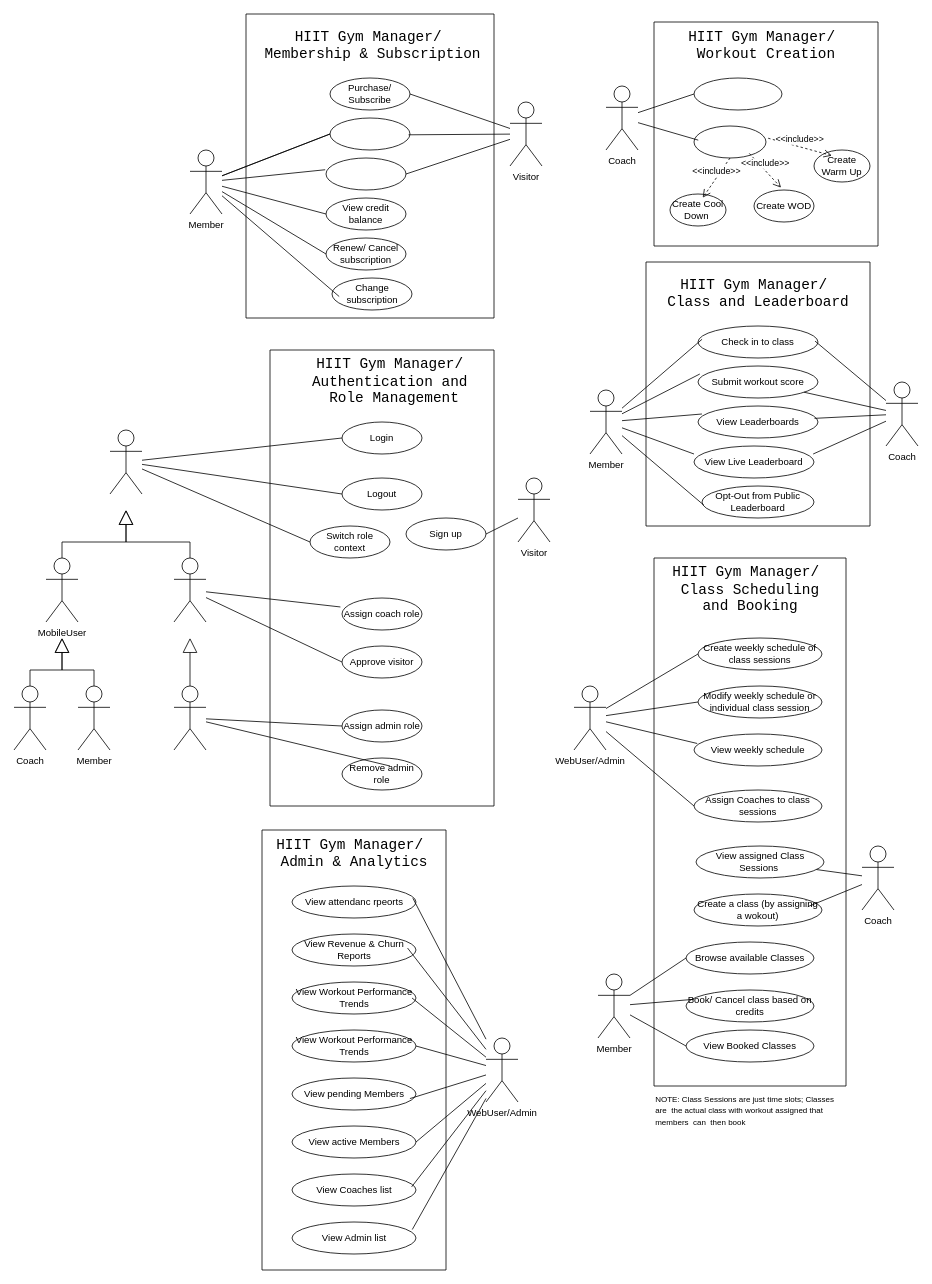
This 932x1284 diagram has some shape labels left out. Here are the shapes that lost their labels. From the top down, the centre of each, then its label:
(x=737, y=93): Create/ Edit Workout Template
(x=369, y=133): View available packages
(x=729, y=141): Create Workout
(x=365, y=173): View package status
(x=125, y=461): User
(x=189, y=589): WebUser/ Admin
(x=189, y=717): Manager
